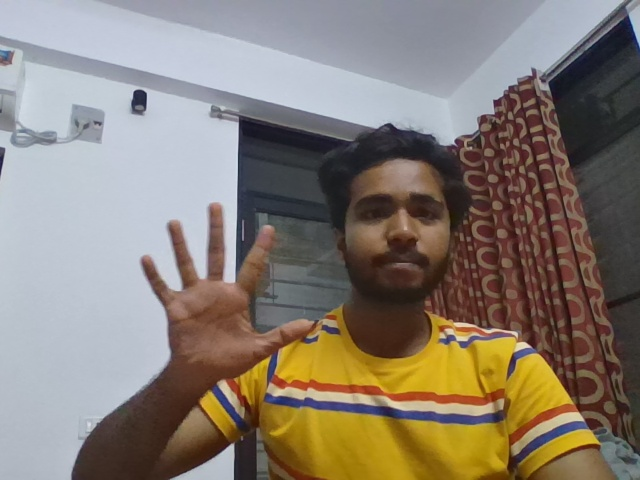Hello: (135, 199, 318, 389)
